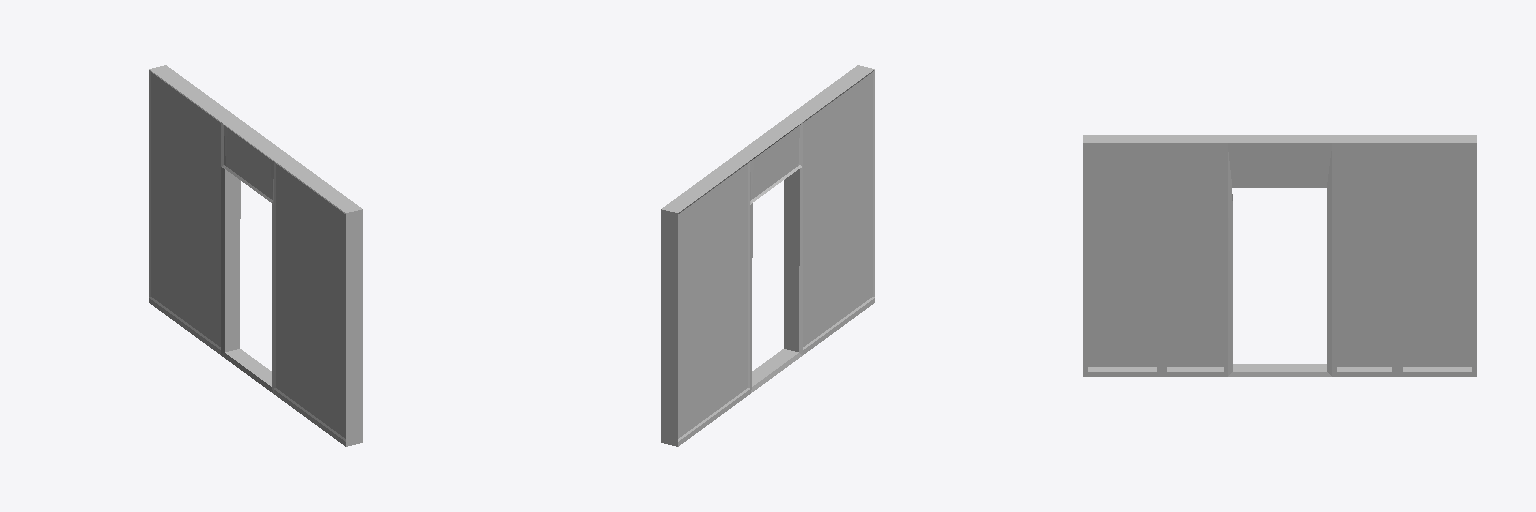
File: DoorWall.obj
3 renders of one model, left to right at view 1: azimuth 30°, elevation 25°; view 2: azimuth 150°, elevation 25°; view 3: azimuth 270°, elevation 25°, orthographic.
Parts seen in each view (by area): view 1: DoorWall; view 2: DoorWall; view 3: DoorWall.
Boxes of the visible parts, <box> form: DoorWall: <box>149,65,362,446</box>; DoorWall: <box>661,65,874,446</box>; DoorWall: <box>1083,135,1476,376</box>.
Size of the model in its own units: 0.2348 by 3.06 by 4.68.